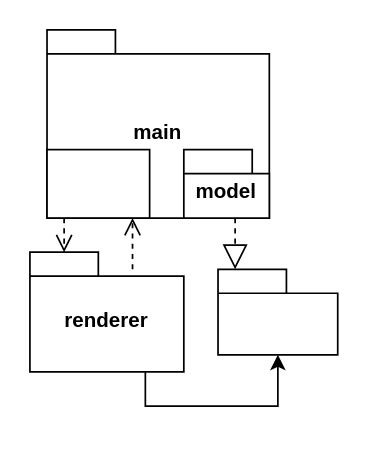
This 368x450 diagram has some shape labels left out. The centre of each missing label's shape, as x and y in pixels:
"main.js" goes at (97,183).
"types" goes at (277,311).
